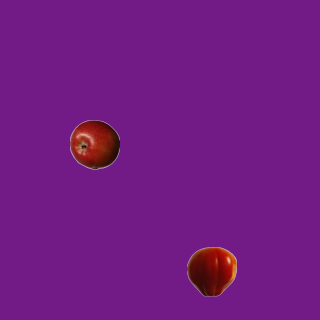Apple Braeburn: (69, 119, 119, 169)
Tomato 1: (186, 246, 236, 296)
